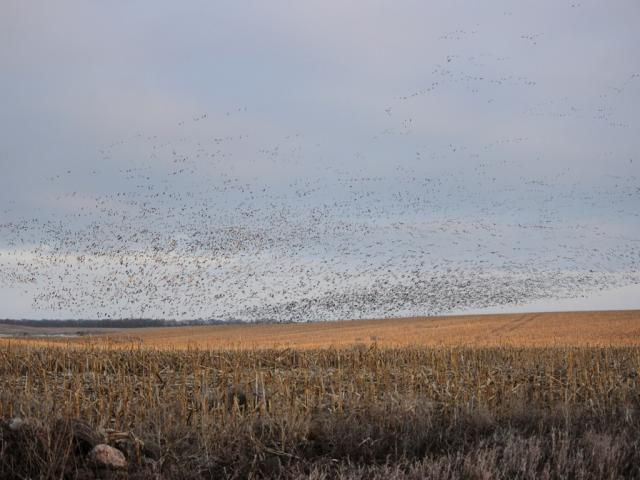Bird: (0, 1, 640, 326)
